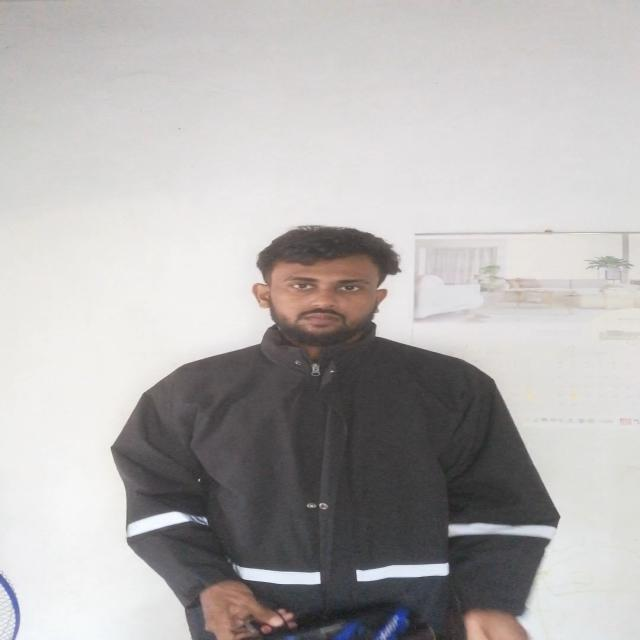Jacket_Wearer: (107, 330, 572, 640)
